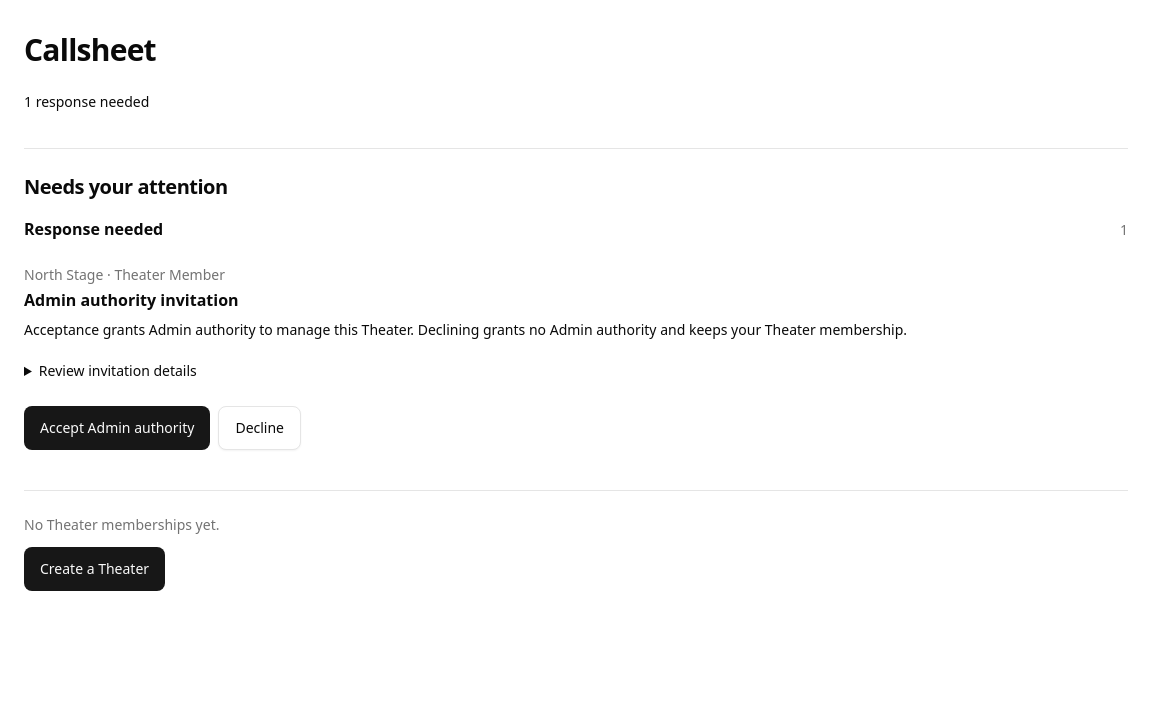
Test: lets an Admin invitee review the recorded offer and authority before responding
This screenshot has width=1152, height=720.
Expected: the text "Declining grants no Admin authority" is shown, [24, 320, 907, 339]
Click the heading "Review invitation details": (118, 371) [39, 361, 197, 380]
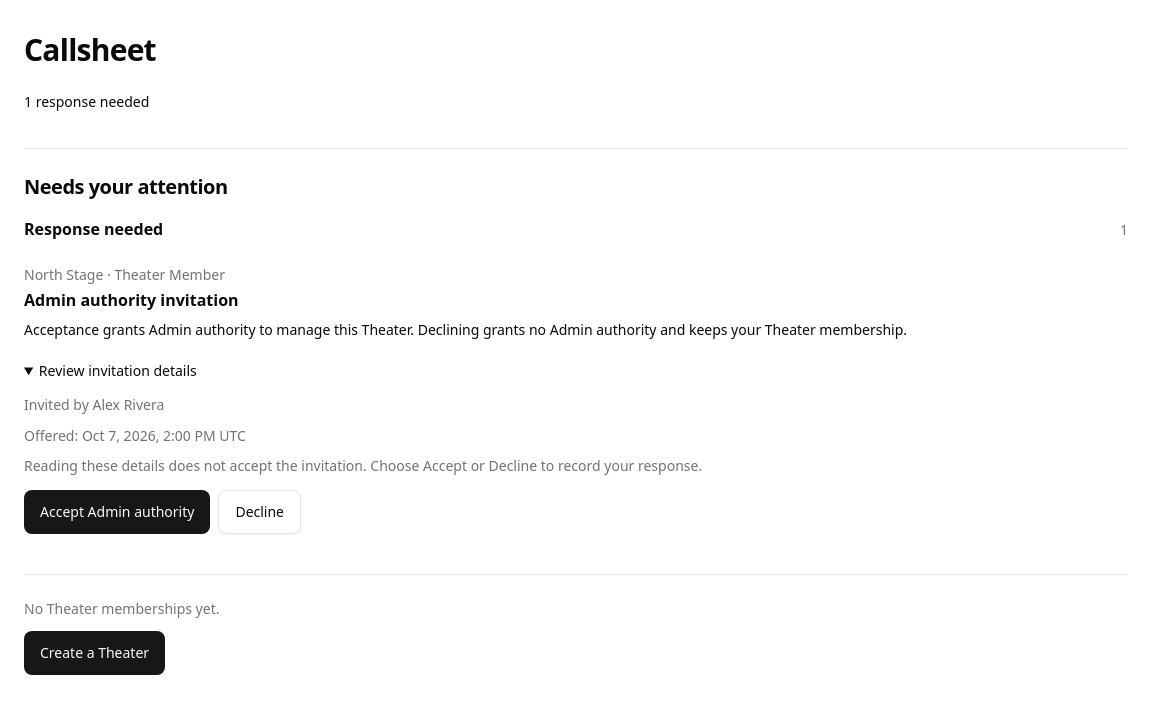
Expected: the button "Accept Admin authority" is shown, [24, 490, 210, 534]
Result: the text "Invited by Alex Rivera" is shown at [24, 395, 164, 414]
